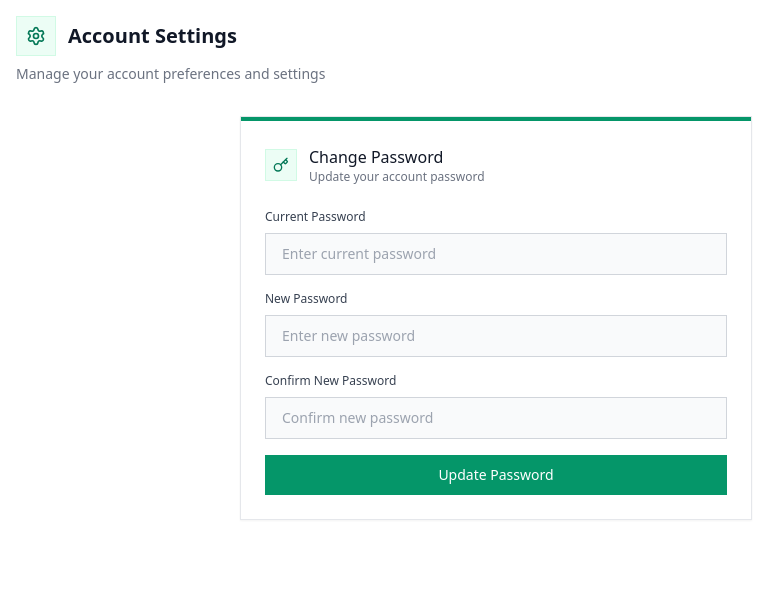
Test case: SettingsClientPage › Password Update › validates password mismatch
Type "oldpass" into the password field labelled "Current Password" at (496, 254), box [265,233,727,275]
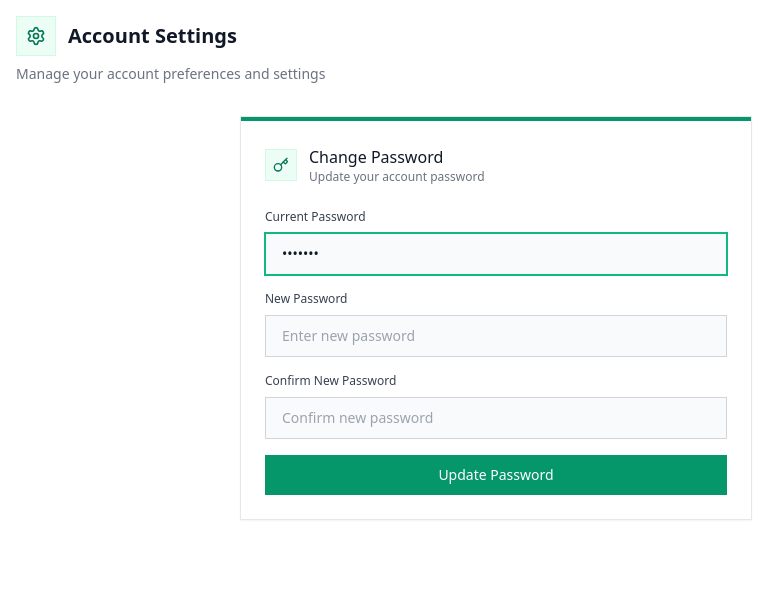
Type "newpass" into the password field labelled "New Password" at (496, 336), box [265,315,727,357]
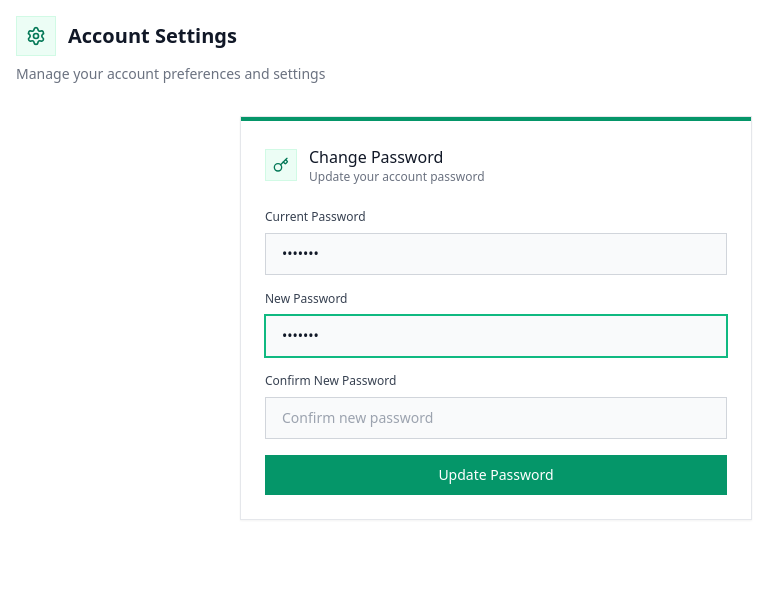
Type "mismatch" into the password field labelled "Confirm New Password" at (496, 418), box [265,397,727,439]
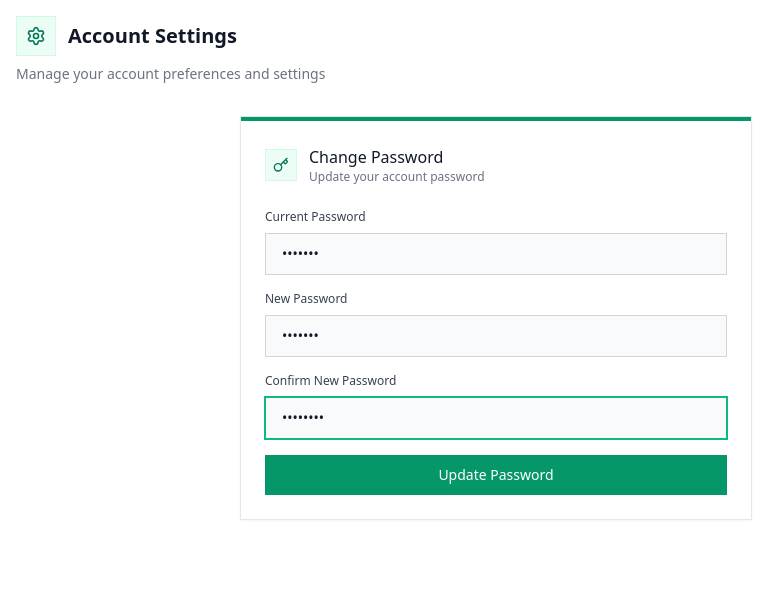
Click the button "Update Password" at (496, 475), box [265,455,727,495]
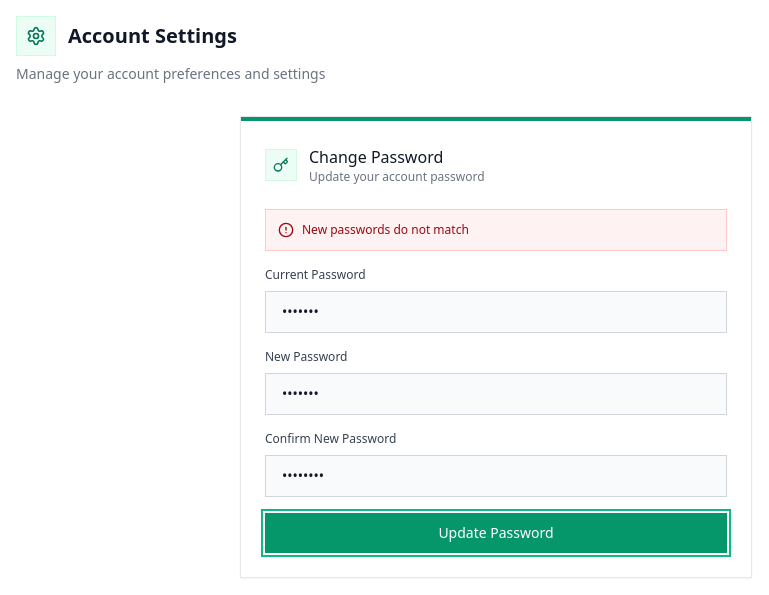
expect the text "New passwords do not match" is shown: met, box [302,222,469,238]
